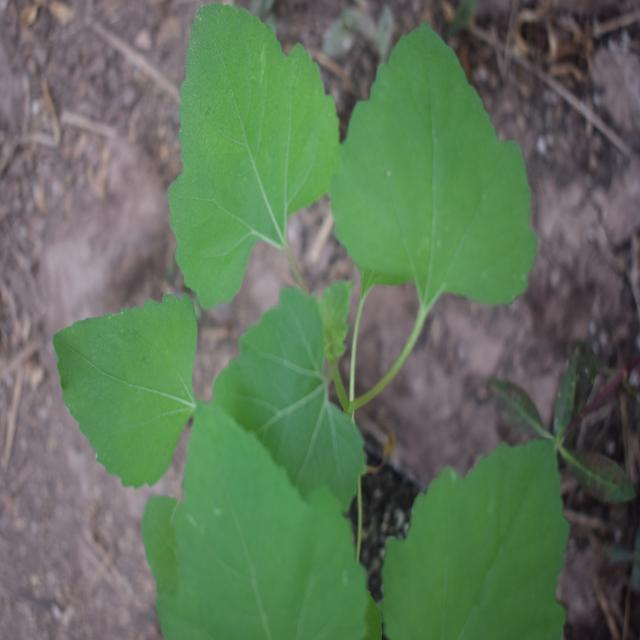cocklebur: (88, 19, 530, 565)
